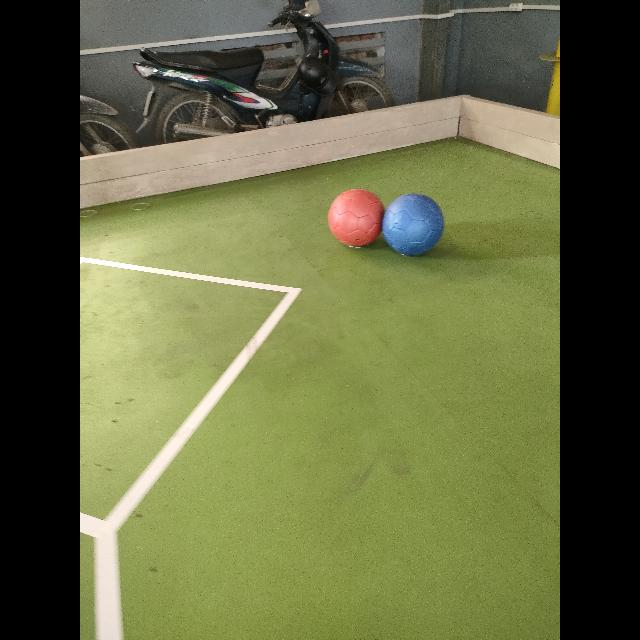B: (382, 194, 444, 255)
R: (328, 189, 385, 248)
